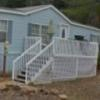stairs: (12, 55, 53, 85)
